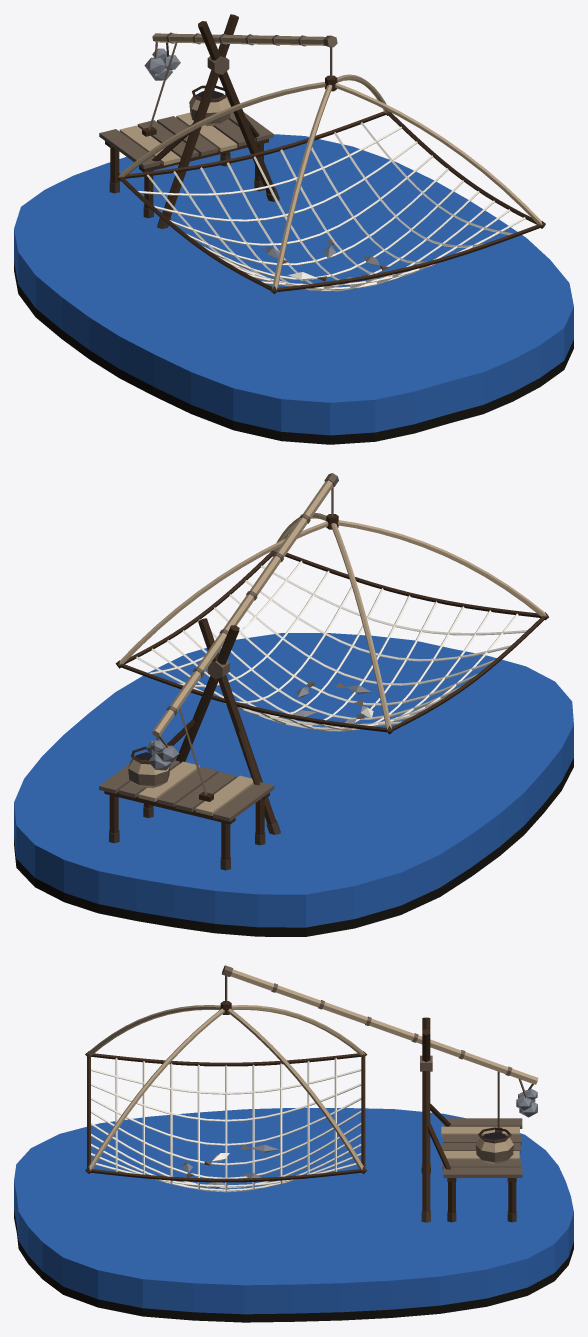
The model's file is nets.glb.
3 renders of one model, top to bottom at view 1: azimuth 30°, elevation 25°; view 2: azimuth 150°, elevation 25°; view 3: azimuth 270°, elevation 25°, orthographic. The views are drawn at different scales.
Visible parts, largest first — view 1: water-sky-blue, net-warm-white, water-muddy-brown-dark, arcs-bright-boat-colours, net-dark-wood, a_frame-dark-wood, platform-muddy-brown-light, platform-bright-boat-colours, pole-bright-boat-colours, platform-dark-wood, pole-muddy-brown-light, pole-mid-grey; view 2: water-sky-blue, net-warm-white, water-muddy-brown-dark, arcs-bright-boat-colours, net-dark-wood, platform-muddy-brown-light, a_frame-dark-wood, pole-bright-boat-colours, platform-bright-boat-colours, platform-dark-wood, pole-muddy-brown-light, pole-mid-grey; view 3: water-sky-blue, net-warm-white, water-muddy-brown-dark, arcs-bright-boat-colours, net-dark-wood, platform-muddy-brown-light, pole-bright-boat-colours, a_frame-dark-wood, platform-bright-boat-colours, platform-dark-wood, pole-muddy-brown-light, pole-mid-grey.
Part boxes in pixels (x1,y1,x2,y2): water-sky-blue: [14, 134, 573, 435]; net-warm-white: [138, 122, 525, 291]; water-muddy-brown-dark: [14, 262, 573, 444]; arcs-bright-boat-colours: [119, 74, 542, 289]; net-dark-wood: [119, 111, 541, 291]; a_frame-dark-wood: [152, 14, 275, 218]; platform-muddy-brown-light: [99, 96, 273, 168]; platform-bright-boat-colours: [119, 93, 237, 165]; pole-bright-boat-colours: [152, 33, 325, 45]; platform-dark-wood: [105, 85, 268, 208]; pole-muddy-brown-light: [148, 32, 337, 129]; pole-mid-grey: [144, 48, 180, 80]; water-sky-blue: [14, 633, 573, 927]; net-warm-white: [136, 560, 527, 731]; water-muddy-brown-dark: [14, 758, 573, 936]; arcs-bright-boat-colours: [119, 513, 546, 729]; net-dark-wood: [120, 550, 545, 732]; platform-muddy-brown-light: [99, 758, 274, 821]; a_frame-dark-wood: [167, 618, 275, 824]; pole-bright-boat-colours: [152, 480, 333, 737]; platform-bright-boat-colours: [128, 755, 253, 815]; platform-dark-wood: [104, 746, 269, 860]; pole-muddy-brown-light: [156, 473, 338, 794]; pole-mid-grey: [146, 740, 179, 770]; water-sky-blue: [14, 1108, 573, 1314]; net-warm-white: [91, 1058, 361, 1192]; water-muddy-brown-dark: [14, 1211, 573, 1322]; arcs-bright-boat-colours: [87, 1005, 364, 1170]; net-dark-wood: [87, 1053, 365, 1182]; platform-muddy-brown-light: [442, 1118, 522, 1177]; pole-bright-boat-colours: [231, 969, 538, 1084]; a_frame-dark-wood: [422, 1017, 450, 1211]; platform-bright-boat-colours: [441, 1126, 519, 1164]; platform-dark-wood: [447, 1127, 516, 1213]; pole-muddy-brown-light: [222, 965, 533, 1130]; pole-mid-grey: [516, 1088, 537, 1117].
Bounding box in the file's own units: 4.59 × 3.24 × 6.12.
